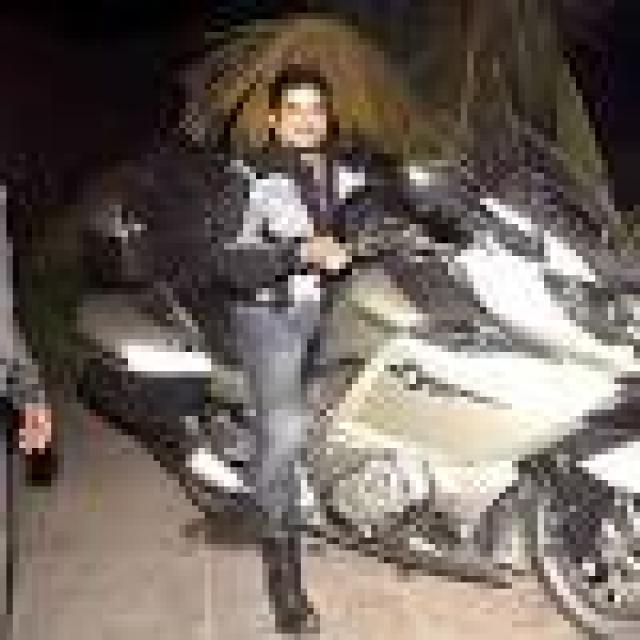Bike: (61, 142, 640, 640)
